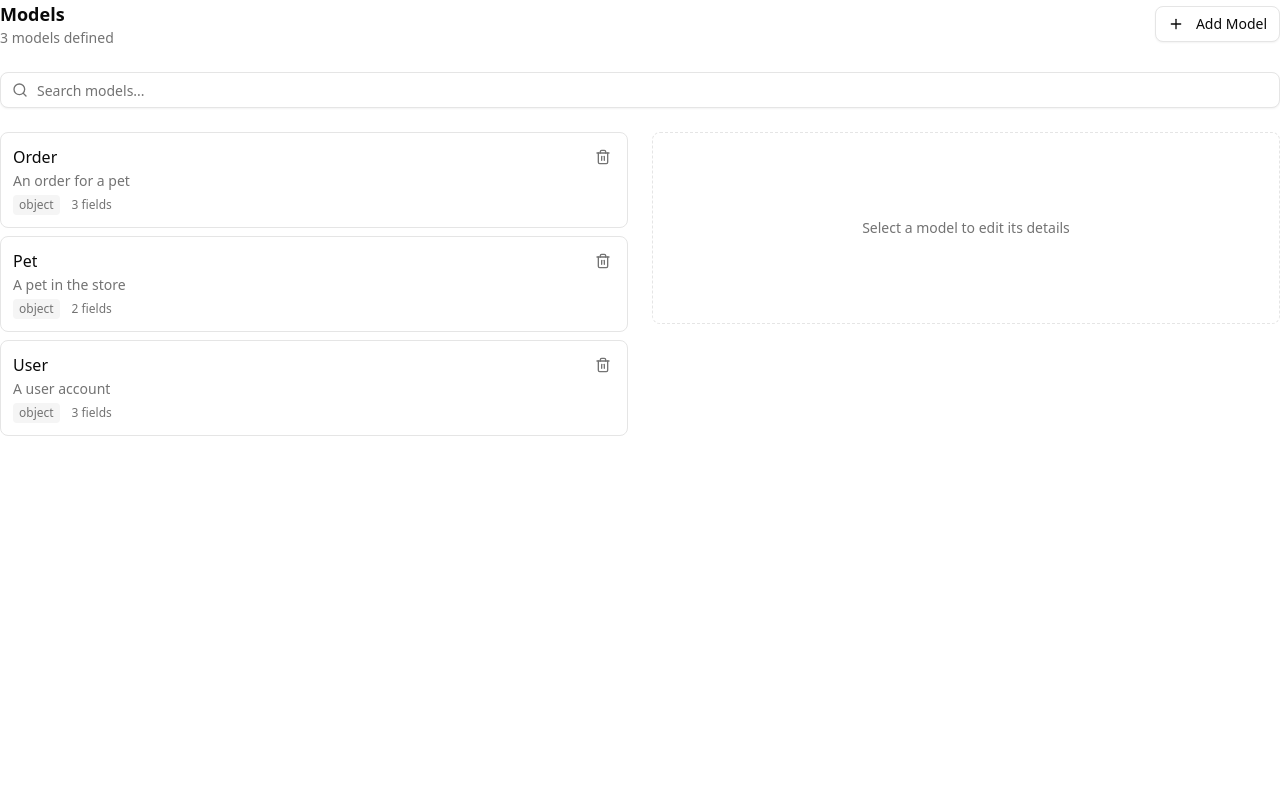
Test: ModelsTab › Delete Model › should show model name in delete confirmation
Delete Pet model (first in alphabetical order after Order)
Click the button named "delete pet model" at {"x": 603, "y": 261}, box [591, 249, 615, 273]
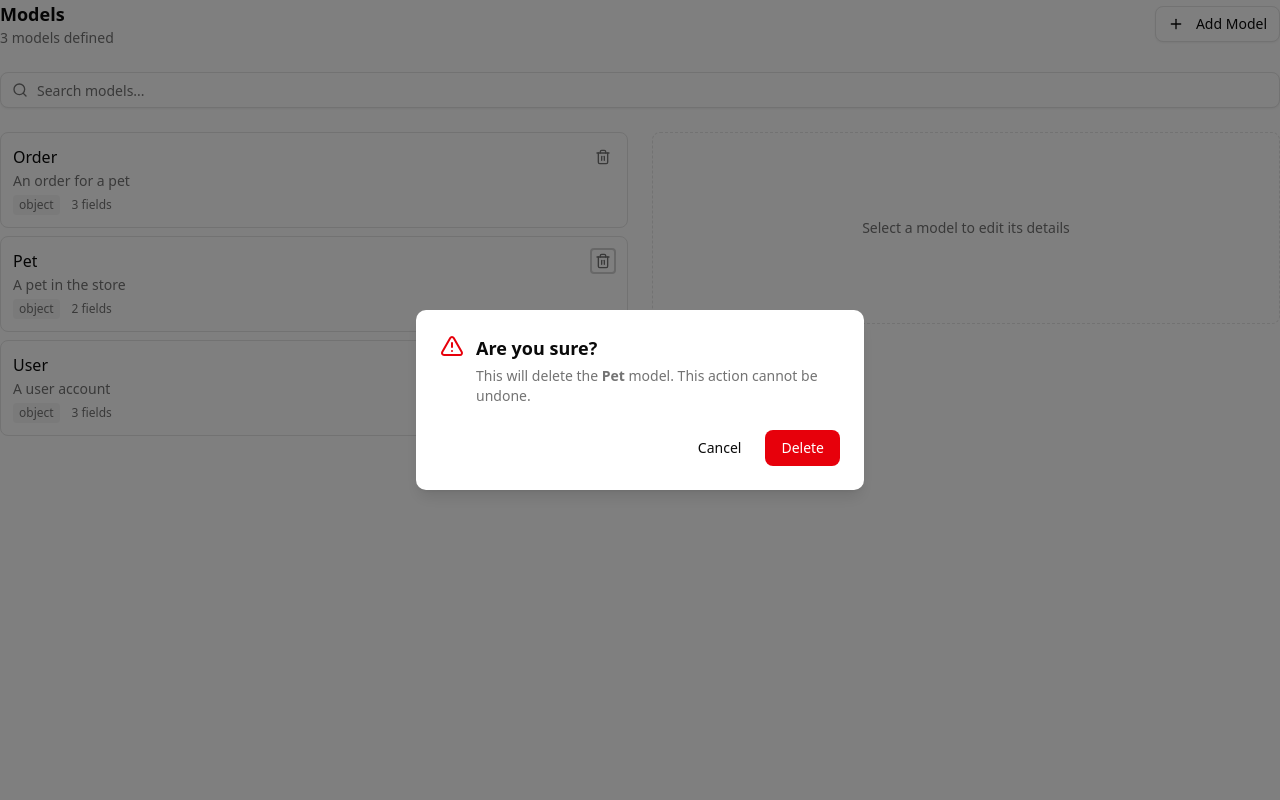
Expected: the text "Pet" is shown, [602, 366, 625, 385]
